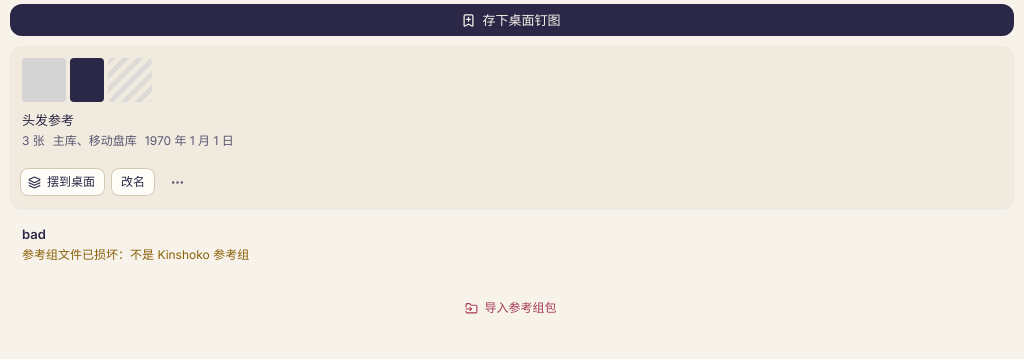
参考组面板 › 打开参考组把成员钉到桌面
Click the button "摆到桌面": (62, 182) [20,168,105,196]
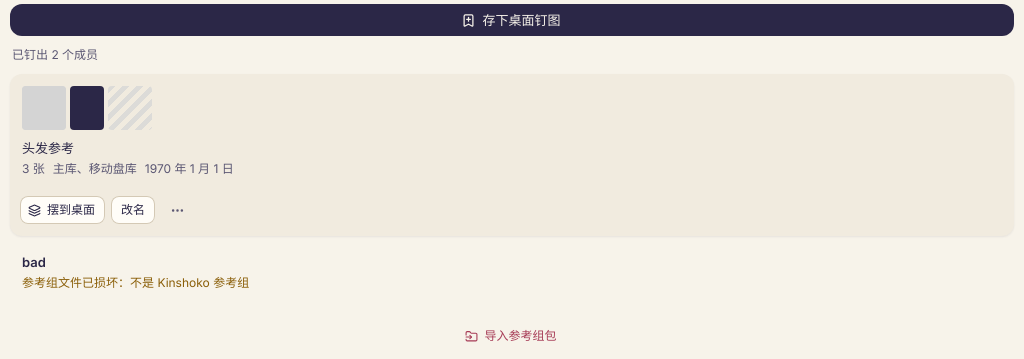
Now the message reads "已钉出 2 个成员", box [12,47,98,62]
